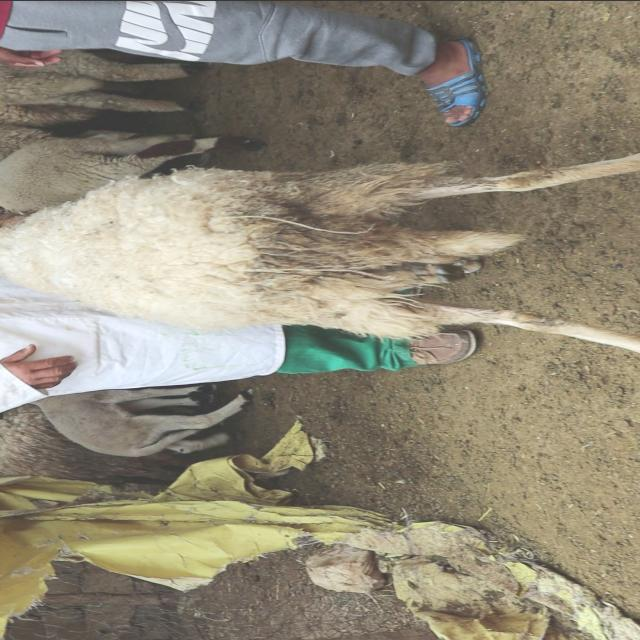Score_2: (0, 153, 639, 352)
